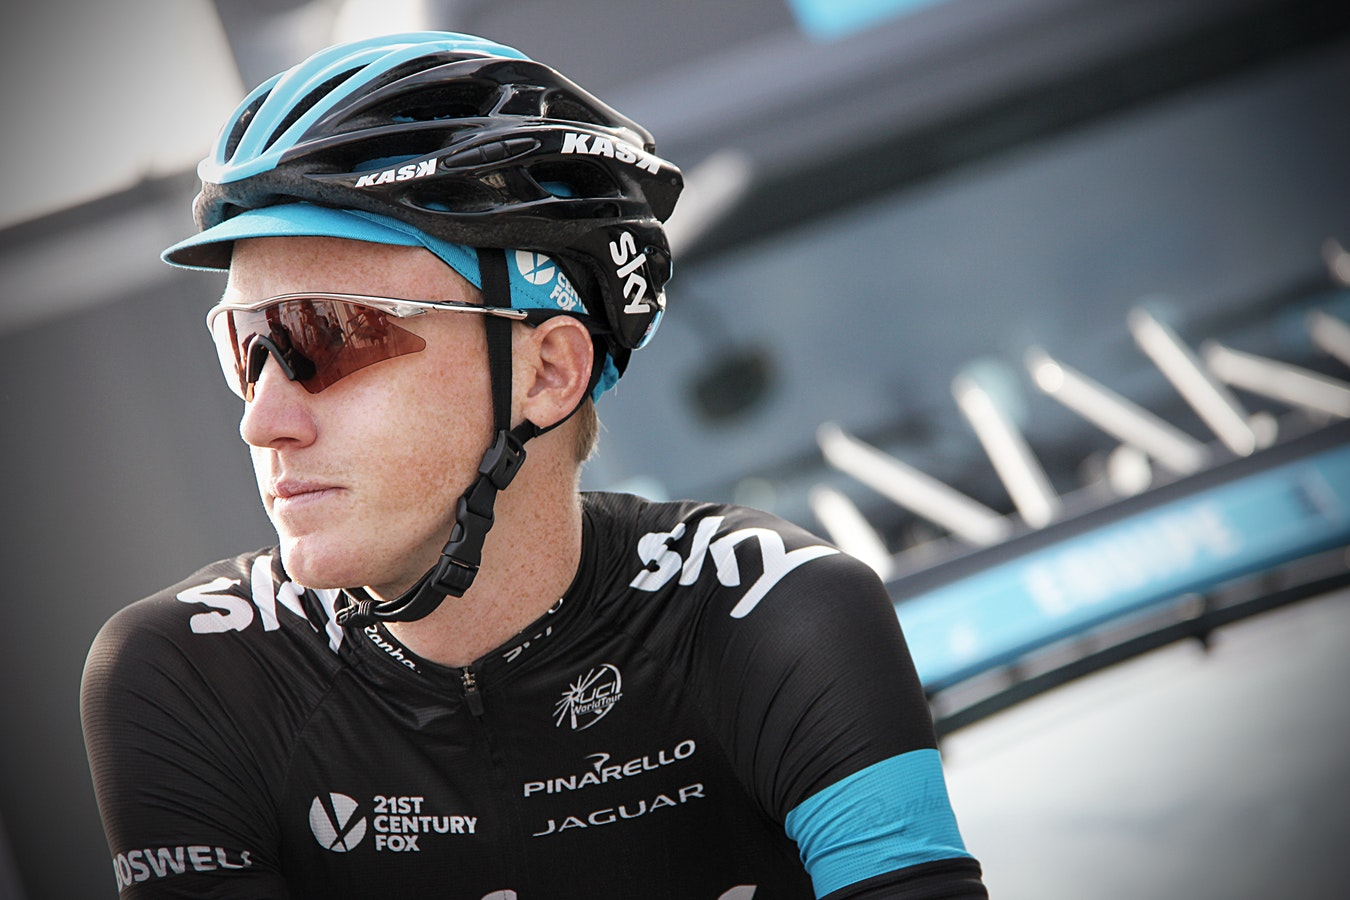helmet: (159, 30, 685, 590)
